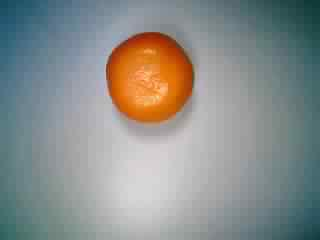orange: (100, 31, 196, 127)
